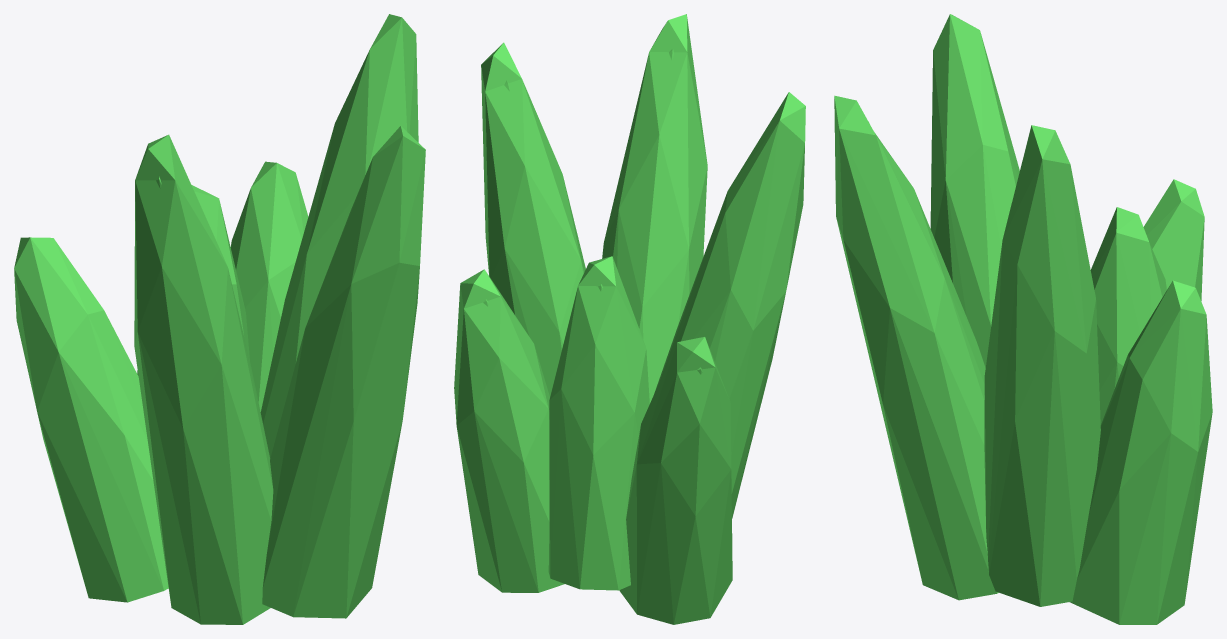
The model's file is grass3.gltf.
3 views of the same model, side by side, from view 1: azimuth 30°, elevation 25°; view 2: azimuth 150°, elevation 25°; view 3: azimuth 270°, elevation 25° (orthographic). The views are drawn at different scales.
Visible parts, largest first — view 1: Sphere.083_leaves_0; view 2: Sphere.083_leaves_0; view 3: Sphere.083_leaves_0.
Part boxes in pixels (x1,y1,x2,y2): Sphere.083_leaves_0: [14, 14, 425, 624]; Sphere.083_leaves_0: [454, 14, 805, 624]; Sphere.083_leaves_0: [834, 14, 1212, 624].
Bounding box in the file's own units: 0.2606 × 0.4105 × 0.2673.
